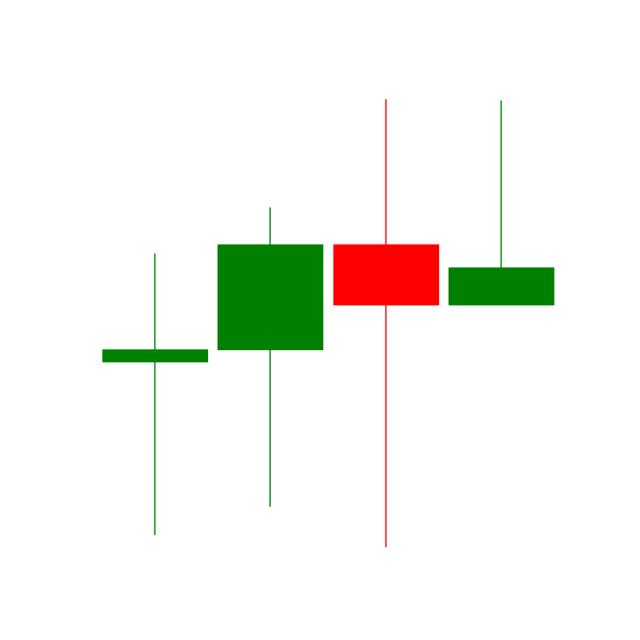High Wave: (328, 94, 444, 552)
Long-Legged Doji: (100, 247, 211, 541)
